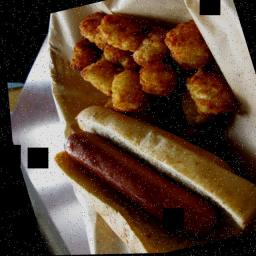hotdog: (18, 71, 256, 256)
